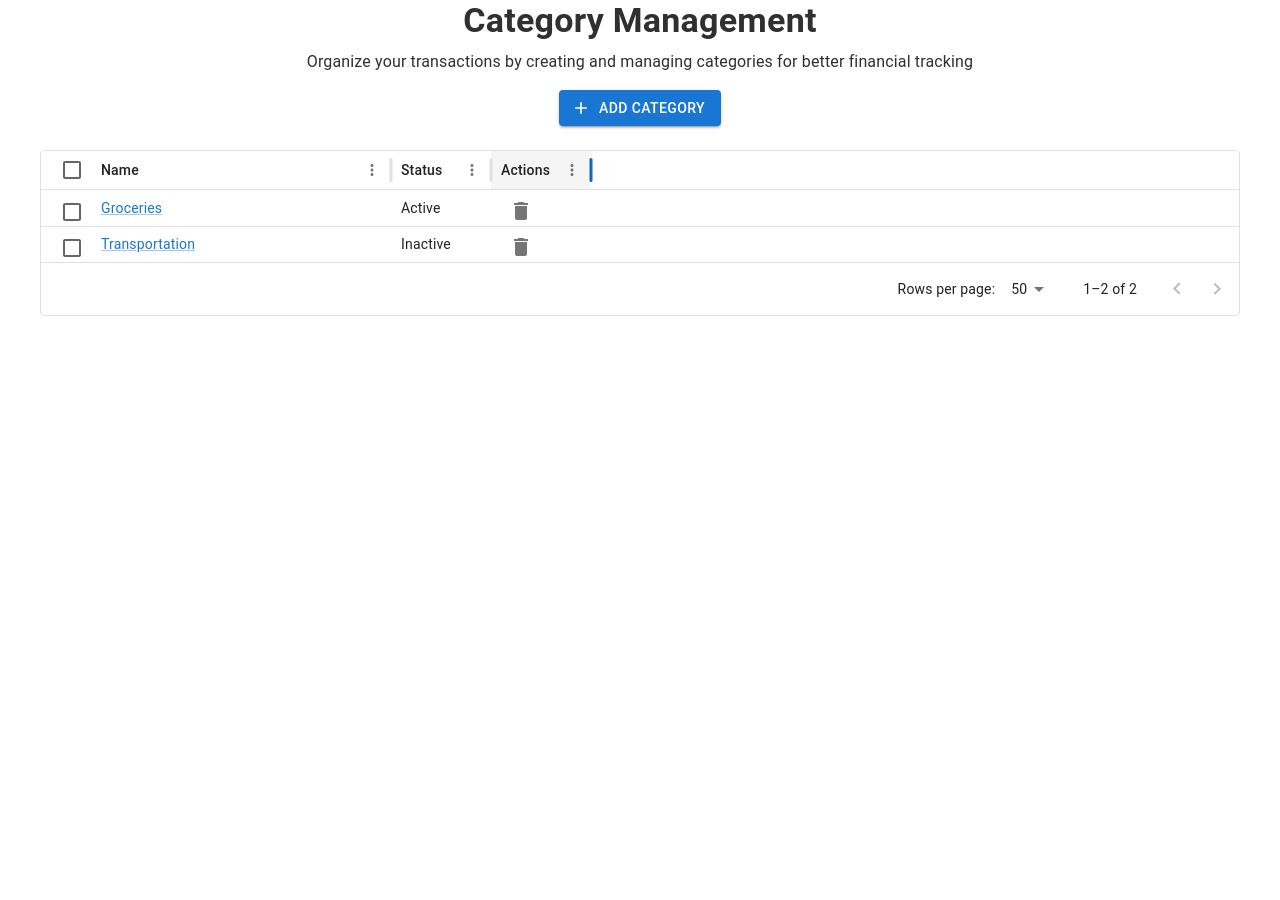
Scenario: Finance Pages - Accessibility Tests › General Accessibility Patterns › provides status updates for dynamic content
Click the button "Add Category".
click(640, 108)  # box left=559, top=90, right=721, bottom=126
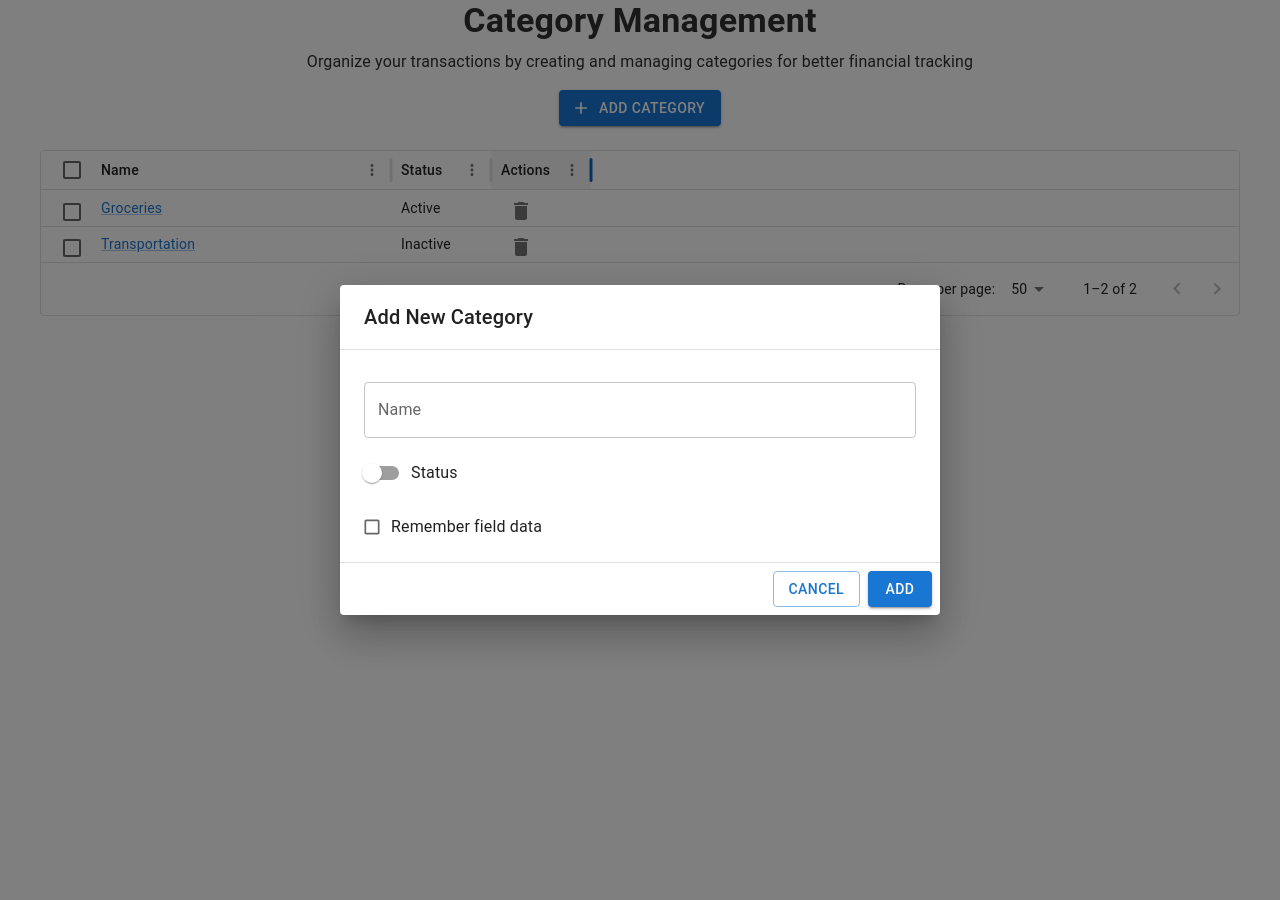
Click the button "Add".
click(900, 589)  # box left=868, top=571, right=932, bottom=607
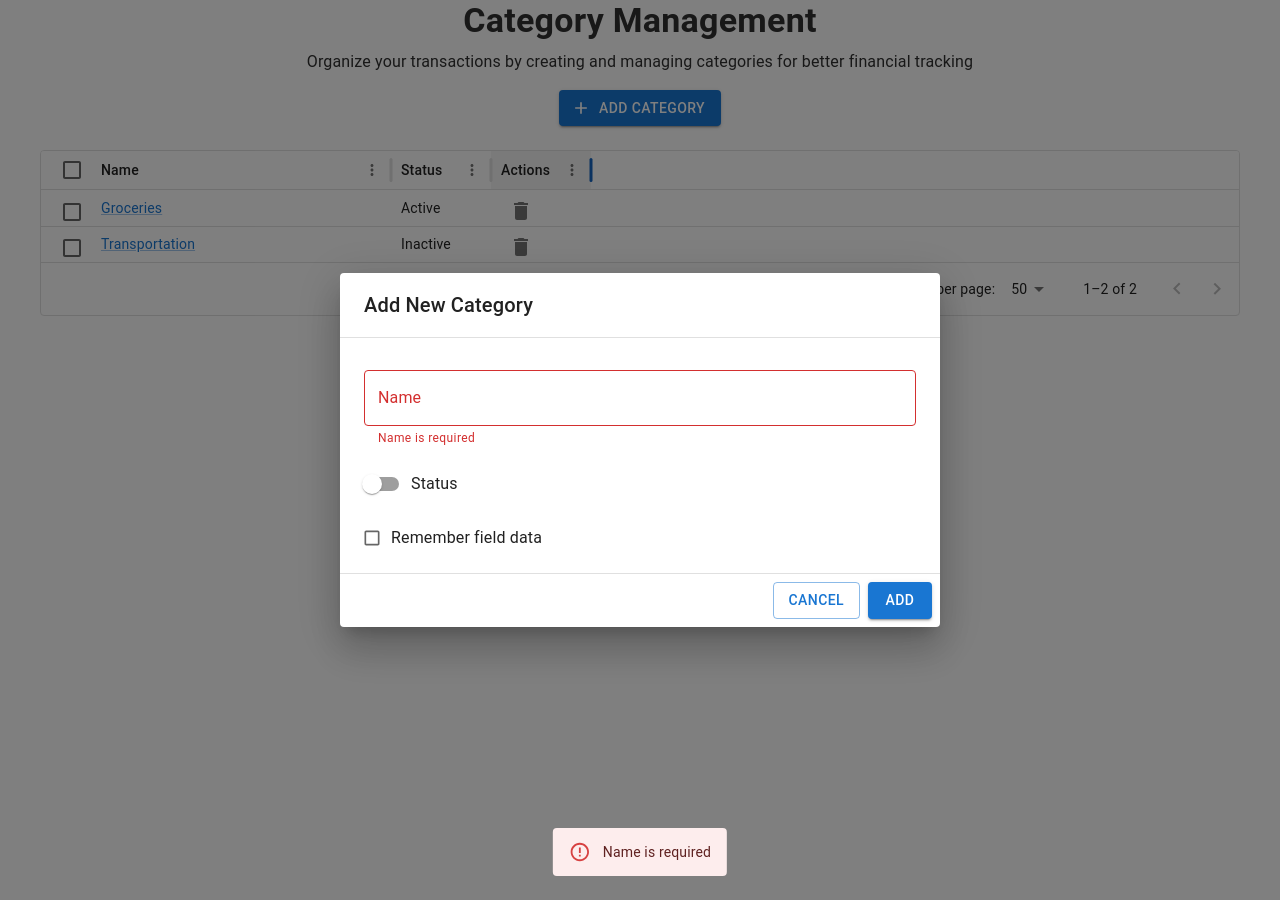
expect the 2nd text "Name is required" is shown: met, box left=603, top=844, right=711, bottom=860
expect the text "Name is required" is shown: met, box left=553, top=828, right=727, bottom=876
